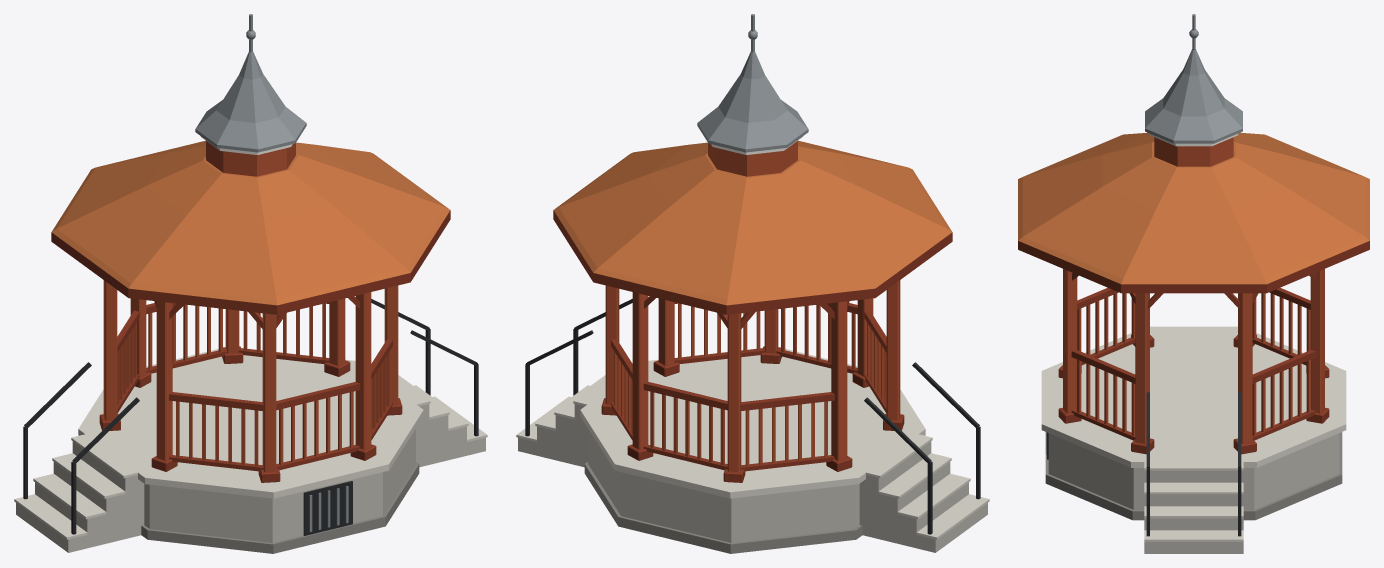
File: coreto.glb
3 views of the same model, side by side, from view 1: azimuth 30°, elevation 25°; view 2: azimuth 150°, elevation 25°; view 3: azimuth 270°, elevation 25° (orthographic). The views are drawn at different scales.
Parts seen in each view (by area): view 1: coreto; view 2: coreto; view 3: coreto.
Part boxes in pixels (x1,y1,x2,y2): coreto: (14,14,487,553); coreto: (516,14,989,553); coreto: (1018,14,1369,553).
Bounding box in the file's own units: 5.55 × 5.9 × 4.25.
